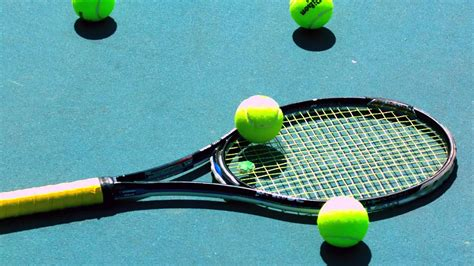tennis_ball: (317, 195, 369, 248), (235, 95, 283, 144), (290, 1, 334, 29), (71, 1, 116, 21)
